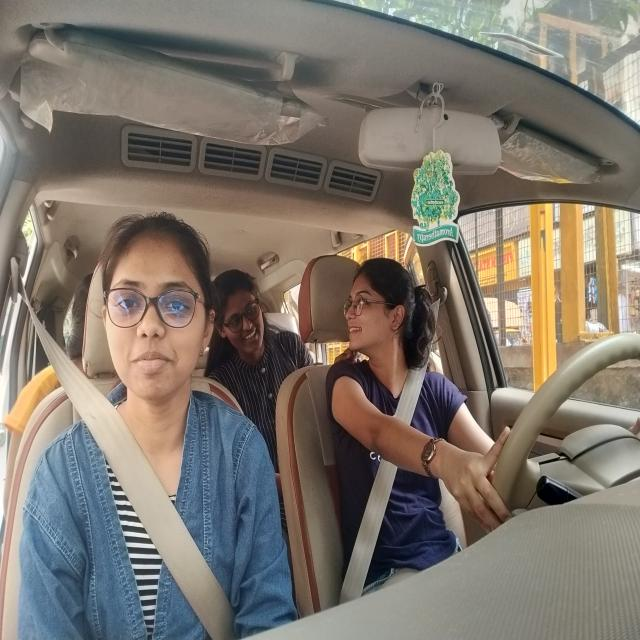LeftRight: (341, 233, 437, 420)
person: (75, 190, 220, 416), (222, 246, 280, 395)
talking: (344, 307, 369, 343)
